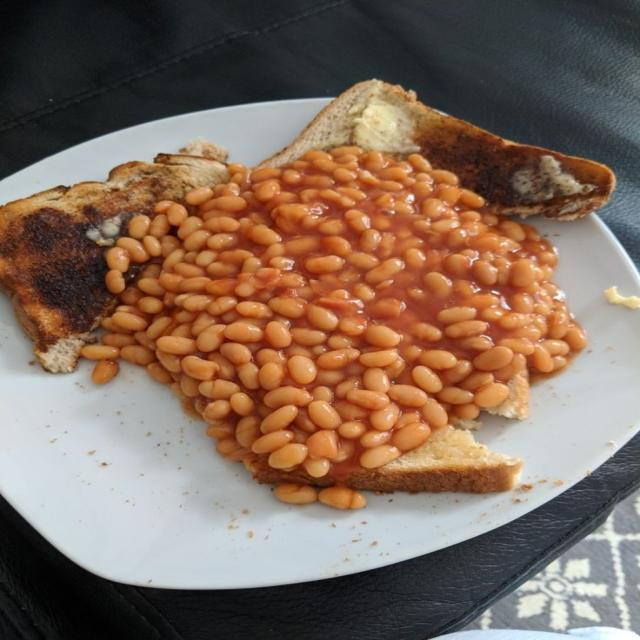beans: (84, 147, 586, 478), (260, 405, 299, 433), (263, 386, 312, 408), (392, 423, 430, 451), (318, 487, 366, 509), (474, 346, 513, 371), (365, 258, 404, 283), (268, 444, 307, 469), (307, 401, 341, 429), (181, 355, 219, 380), (316, 348, 361, 369), (306, 430, 338, 459), (251, 431, 293, 453), (360, 445, 400, 468), (387, 385, 427, 407), (287, 355, 317, 384), (274, 484, 317, 504), (347, 390, 389, 410), (223, 322, 263, 343), (369, 404, 400, 431), (117, 237, 149, 263), (365, 325, 401, 348), (474, 383, 508, 407), (412, 366, 442, 393), (421, 398, 448, 427), (196, 325, 225, 352), (307, 305, 338, 330), (445, 320, 488, 338), (419, 350, 457, 370), (157, 336, 197, 355), (199, 380, 239, 399), (258, 362, 285, 390), (120, 345, 155, 366), (265, 321, 292, 348), (220, 343, 252, 365), (510, 260, 536, 287), (112, 312, 148, 331), (306, 256, 344, 274), (437, 307, 477, 324), (247, 225, 281, 245), (363, 368, 390, 392), (92, 360, 119, 384), (360, 350, 398, 367), (291, 328, 326, 346), (106, 246, 129, 272), (438, 387, 473, 404), (237, 363, 259, 390), (460, 372, 493, 390), (203, 400, 231, 421), (532, 344, 553, 372), (499, 338, 533, 355), (563, 325, 586, 350), (81, 345, 119, 360), (128, 215, 150, 240), (360, 431, 392, 448), (412, 323, 442, 341), (303, 458, 331, 477), (147, 363, 173, 383), (185, 187, 213, 205), (101, 333, 137, 347), (106, 269, 126, 294), (338, 422, 367, 439), (166, 203, 187, 226)
toast bread: (259, 80, 615, 219), (0, 153, 225, 372), (343, 426, 522, 493), (249, 461, 335, 486)
